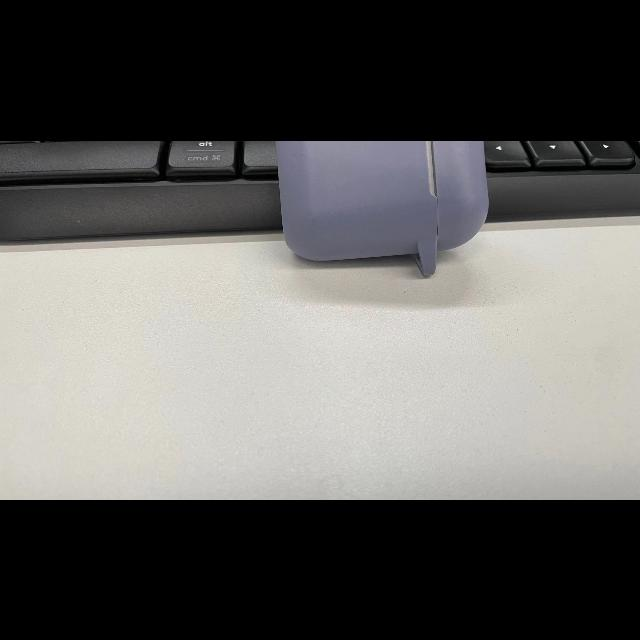airpods: (276, 140, 486, 276)
